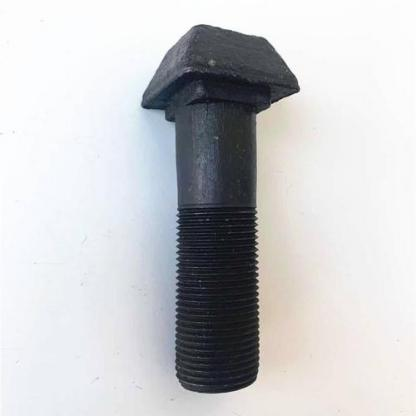FOD: (136, 20, 305, 396)
